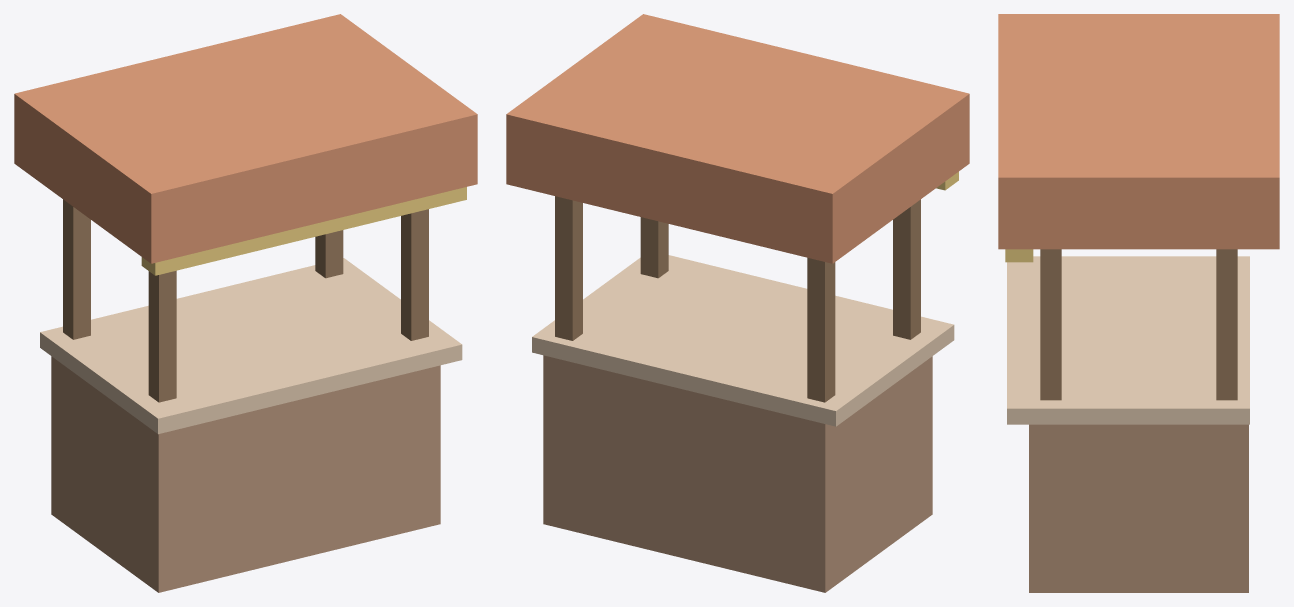
Rendered from prop-food-stall.glb.
The picture shows the model from 3 angles, left to right: view 1: azimuth 30°, elevation 25°; view 2: azimuth 150°, elevation 25°; view 3: azimuth 270°, elevation 25°; orthographic projection. The views are drawn at different scales.
Parts seen in each view (by area): view 1: prop-food-stall; view 2: prop-food-stall; view 3: prop-food-stall.
Part boxes in pixels (bbox=[...]): prop-food-stall: bbox=[14, 14, 477, 592]; prop-food-stall: bbox=[506, 14, 969, 592]; prop-food-stall: bbox=[998, 14, 1279, 592].
Bounding box in the file's own units: 2.2 × 2.67 × 1.6.
